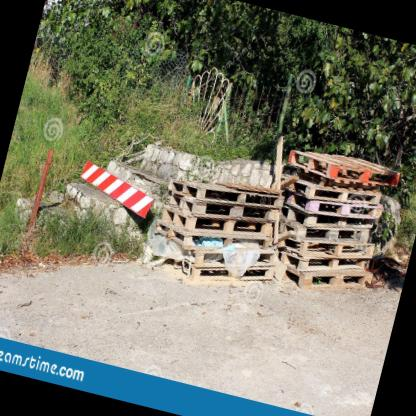BoxFace: (286, 148, 400, 188), (166, 176, 280, 210)
